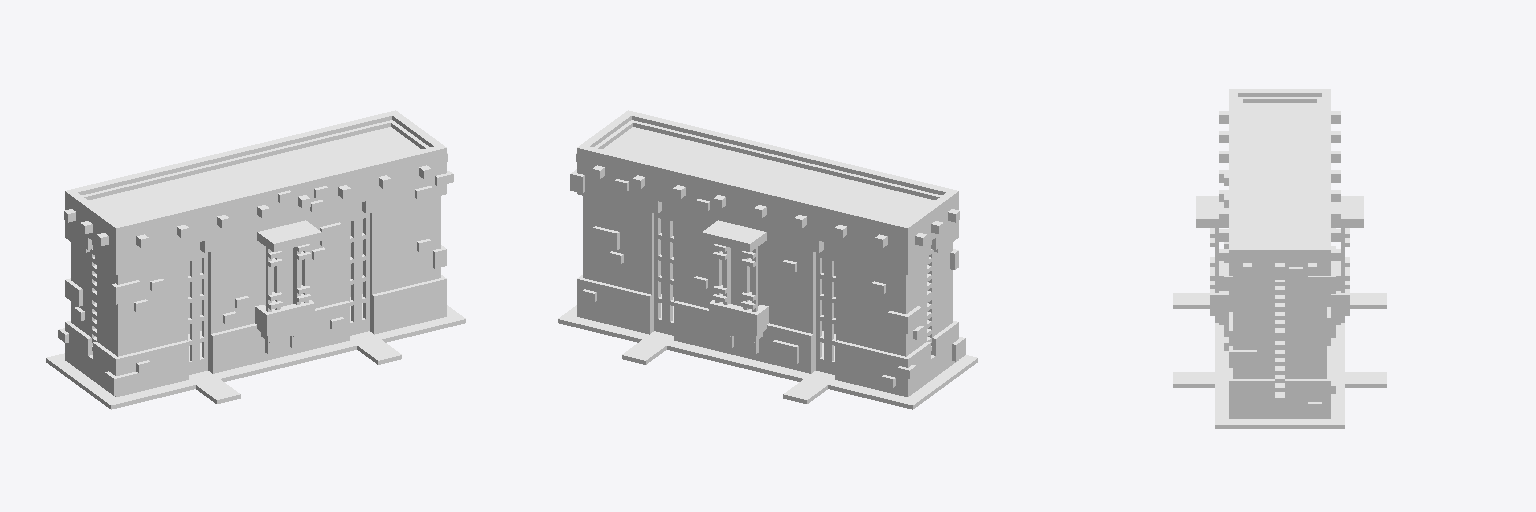
The model's file is LargeBuilding01.obj.
The picture shows the model from 3 angles: view 1: azimuth 30°, elevation 25°; view 2: azimuth 150°, elevation 25°; view 3: azimuth 270°, elevation 25°; orthographic projection.
Visible parts, largest first — view 1: object 1; view 2: object 1; view 3: object 1.
Part boxes in pixels (left/top/right/bottom): object 1: left=46, top=110, right=465, bottom=409; object 1: left=558, top=110, right=977, bottom=409; object 1: left=1173, top=89, right=1386, bottom=428.
Bounding box in the file's own units: 8.8 × 4.1 × 4.6.